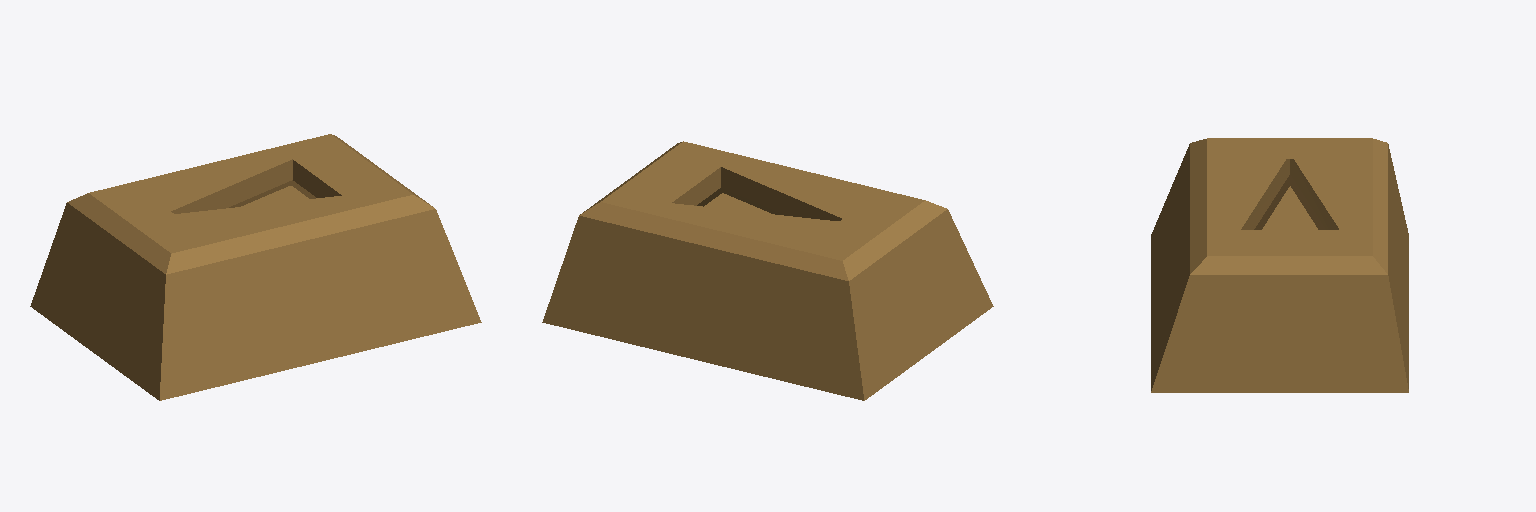
The model's file is ButtonHL.obj.
3 renders of one model, left to right at view 1: azimuth 30°, elevation 25°; view 2: azimuth 150°, elevation 25°; view 3: azimuth 270°, elevation 25°, orthographic.
Visible parts, largest first — view 1: KeyboardKey_0.1_2to1.001_Cube.027, KeyboardKey_0.1_2to1_Cube.012; view 2: KeyboardKey_0.1_2to1.001_Cube.027, KeyboardKey_0.1_2to1_Cube.012; view 3: KeyboardKey_0.1_2to1.001_Cube.027, KeyboardKey_0.1_2to1_Cube.012.
Boxes of the visible parts, <box> form: KeyboardKey_0.1_2to1.001_Cube.027: <box>30,134,481,400</box>; KeyboardKey_0.1_2to1_Cube.012: <box>241,186,308,206</box>; KeyboardKey_0.1_2to1.001_Cube.027: <box>542,141,993,400</box>; KeyboardKey_0.1_2to1_Cube.012: <box>704,193,770,213</box>; KeyboardKey_0.1_2to1.001_Cube.027: <box>1151,138,1408,392</box>; KeyboardKey_0.1_2to1_Cube.012: <box>1262,186,1317,229</box>.
Bounding box in the file's own units: 2.88 × 1 × 2.